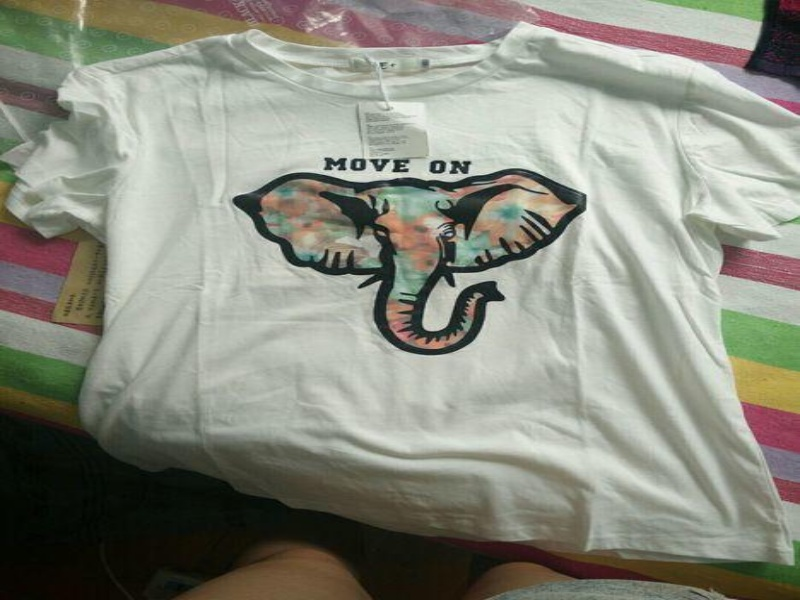short_sleeved_shirt: (0, 17, 798, 573)
